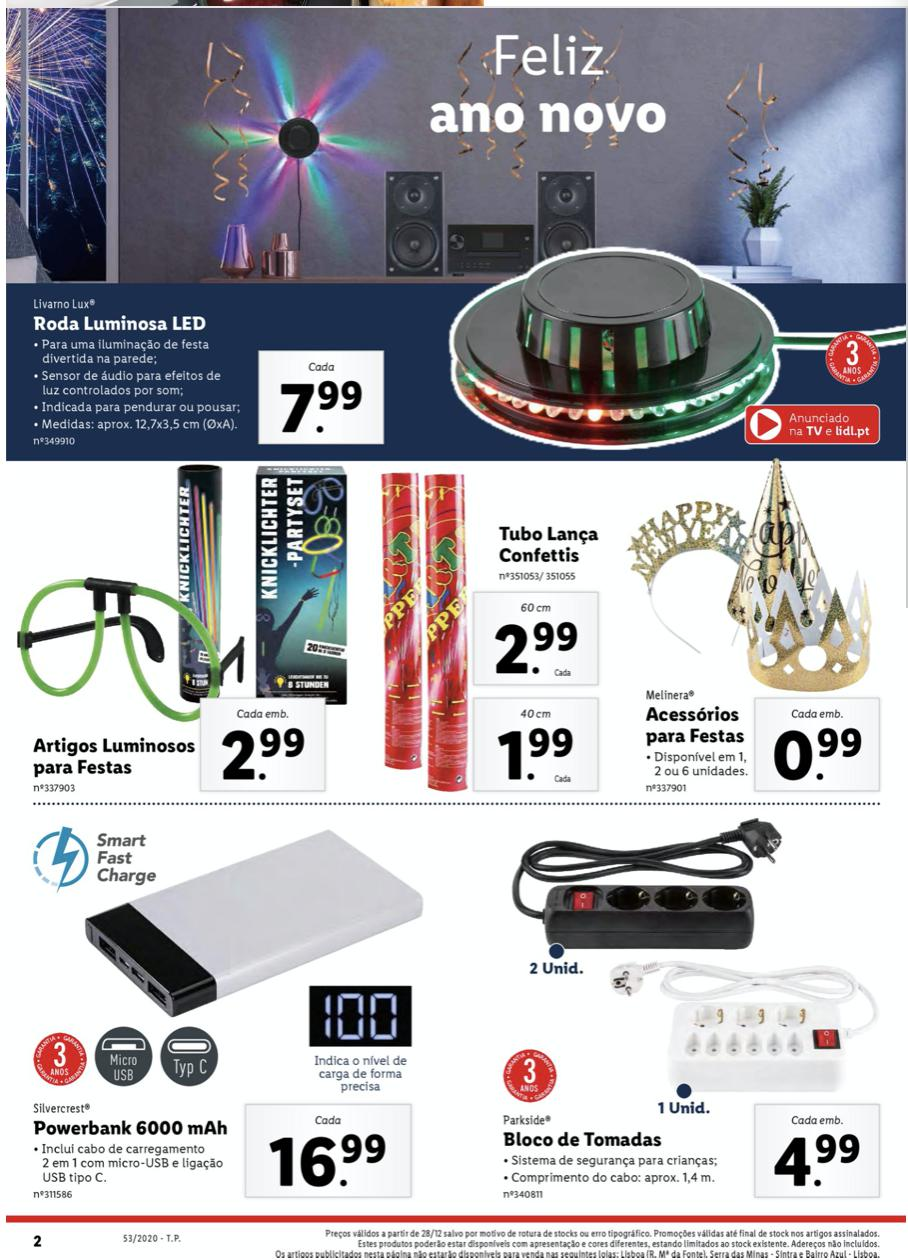name: (33, 734, 197, 776), (32, 1115, 236, 1140), (29, 309, 211, 337), (641, 702, 750, 748), (493, 521, 602, 566), (504, 1129, 668, 1154)
price: (264, 1132, 389, 1195), (771, 1124, 872, 1198), (486, 612, 583, 682), (766, 723, 868, 788), (279, 377, 369, 443), (222, 721, 305, 791), (491, 724, 577, 788)
product: (19, 20, 897, 452), (447, 818, 900, 1206), (375, 460, 896, 795), (5, 812, 424, 1212), (8, 460, 366, 796)
